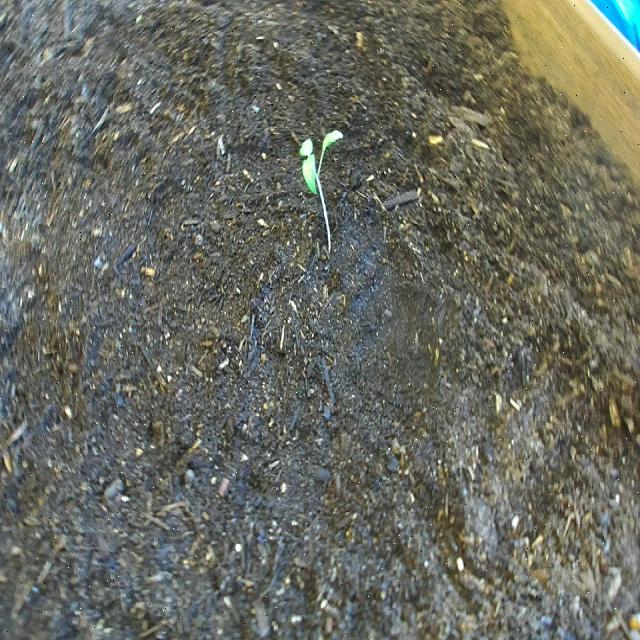Healthy: (299, 126, 344, 262)
